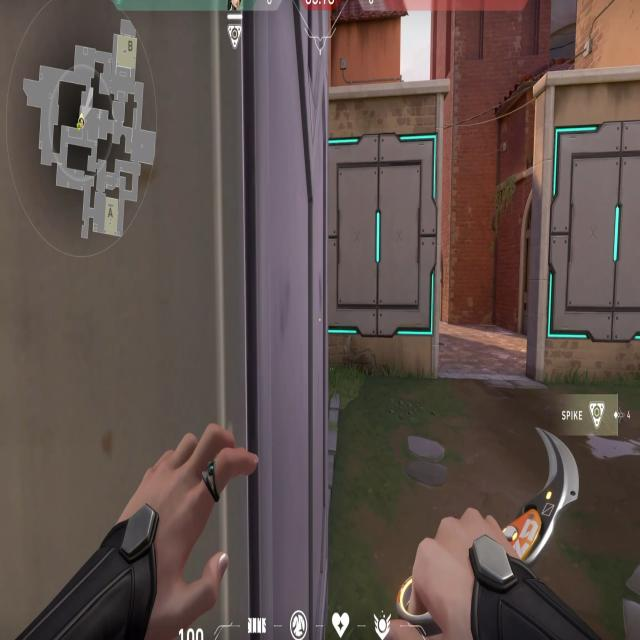Mid_Wall: (536, 80, 640, 392), (329, 89, 441, 376)
